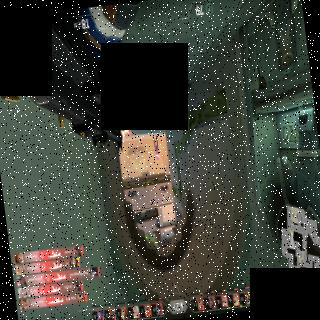ENEMY-BODY: (152, 135, 160, 162)
ENEMY-HEAD: (157, 156, 159, 162)
